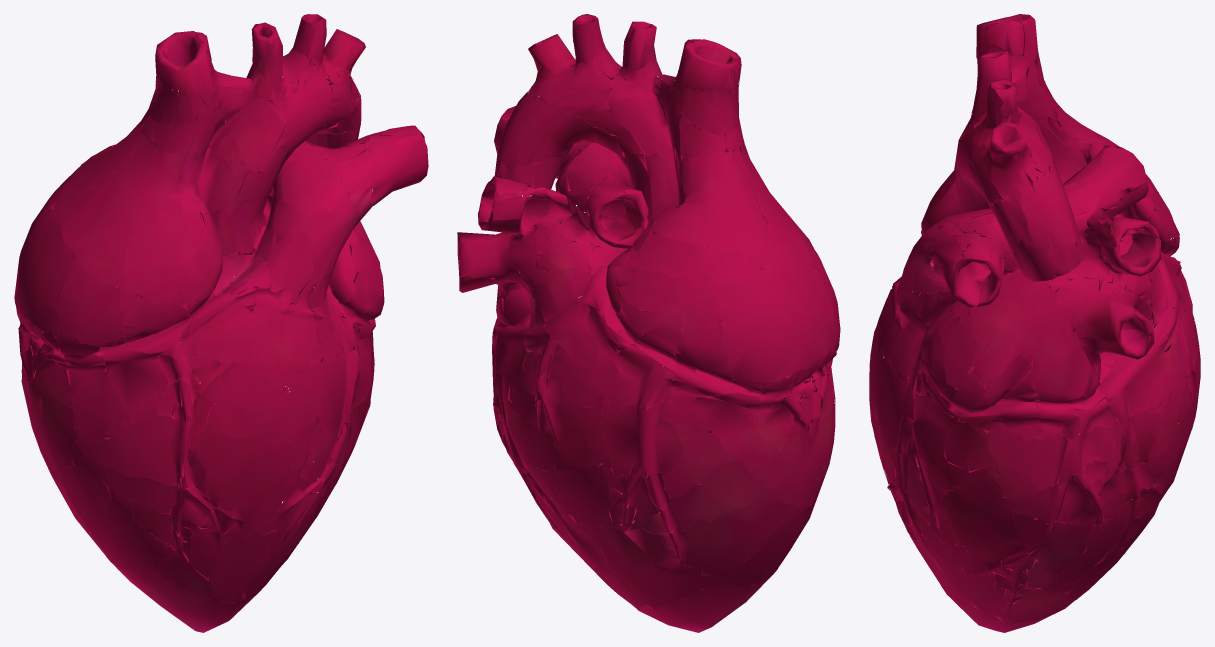
The model's file is heart.glb.
3 renders of one model, left to right at view 1: azimuth 30°, elevation 25°; view 2: azimuth 150°, elevation 25°; view 3: azimuth 270°, elevation 25°, orthographic. The views are drawn at different scales.
Parts seen in each view (by area): view 1: Mesh_0; view 2: Mesh_0; view 3: Mesh_0.
Part boxes in pixels (left/top/right/bottom): Mesh_0: left=14, top=14, right=428, bottom=632; Mesh_0: left=457, top=14, right=840, bottom=632; Mesh_0: left=869, top=14, right=1200, bottom=632.
Bounding box in the file's own units: 1.18 × 1.9 × 0.9332.
Materials: 1 (1 with a texture image).
